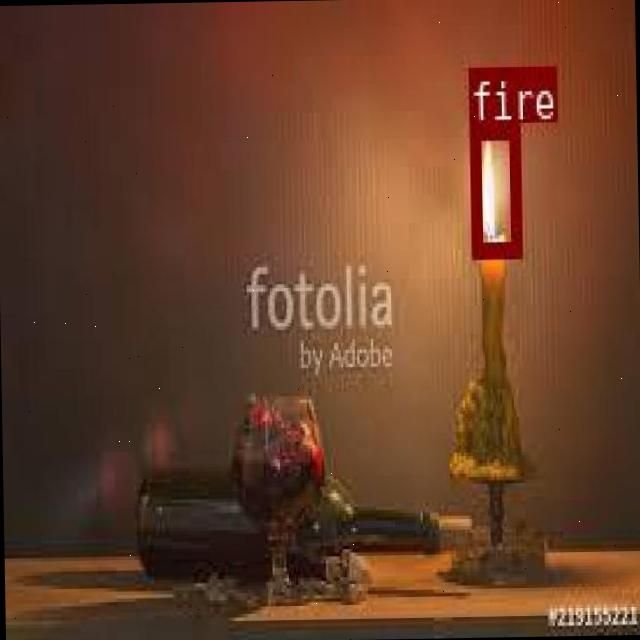fire: (468, 121, 518, 256)
